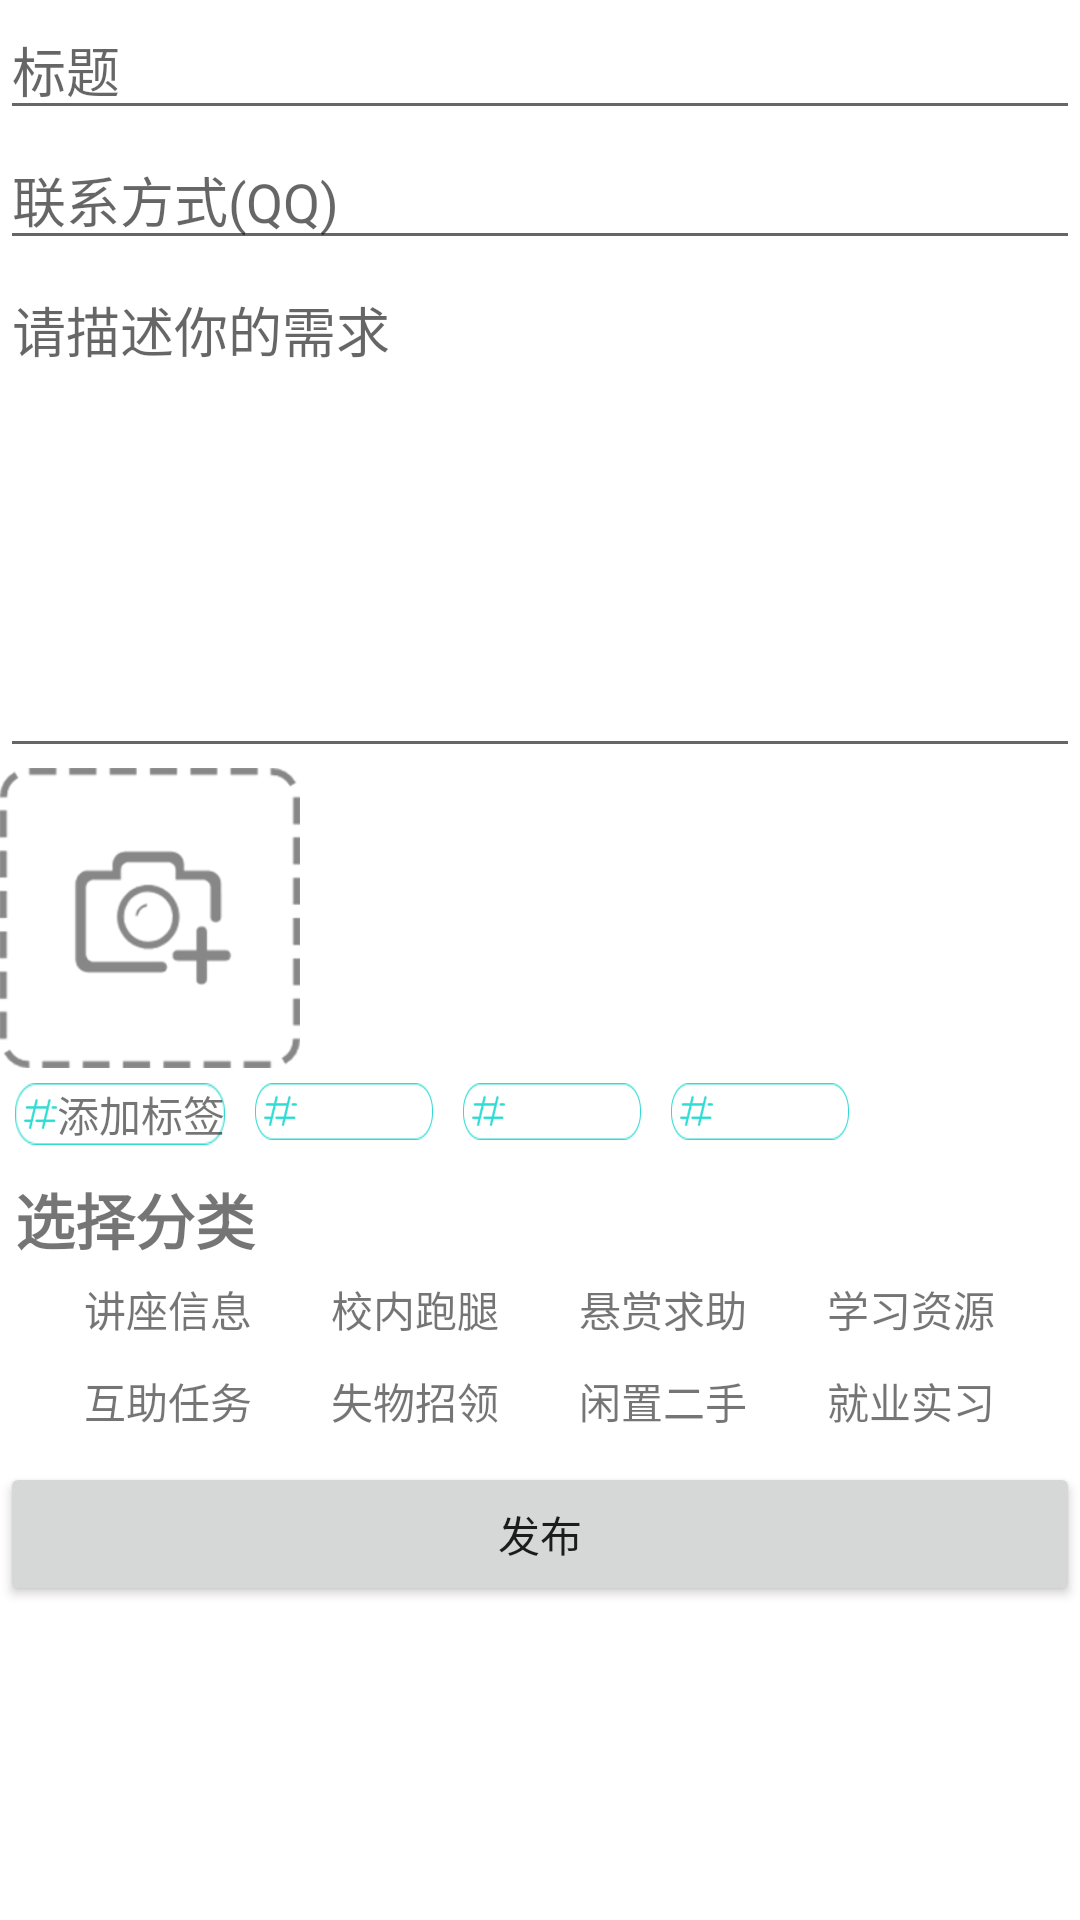

Screen size 1080×1920. Icon name, then its center in pixels as [x,y]:
add: [150,918]
